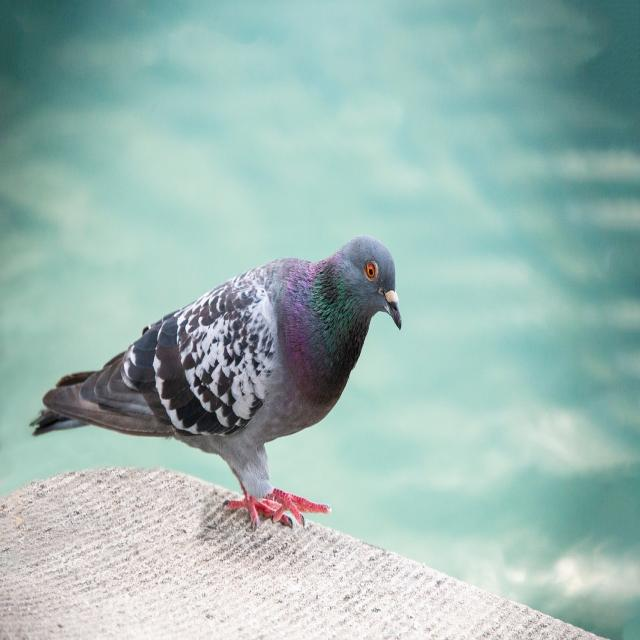pegion: (26, 179, 444, 557)
